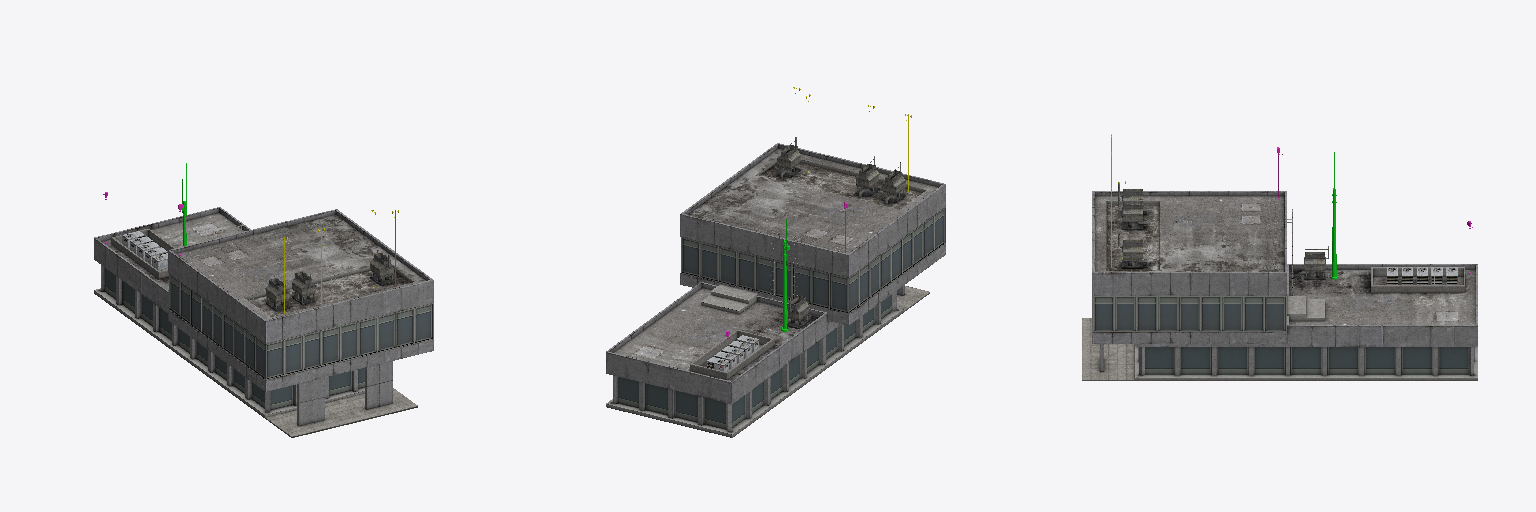
The picture shows the model from 3 angles: view 1: azimuth 30°, elevation 25°; view 2: azimuth 150°, elevation 25°; view 3: azimuth 270°, elevation 25°; orthographic projection.
Visible parts, largest first — view 1: low_01, air_shaft, air_shaft1, air_shaft2; view 2: low_01, air_shaft, air_shaft2, air_shaft1, air_shaft3; view 3: low_01, air_shaft3, air_shaft1, air_shaft.
Part boxes in pixels (x1,y1,x2,y2): low_01: (94, 207, 433, 437); air_shaft: (370, 250, 394, 285); air_shaft1: (291, 271, 315, 304); air_shaft2: (265, 276, 289, 311); low_01: (606, 143, 945, 437); air_shaft: (777, 137, 801, 178); air_shaft2: (881, 162, 905, 203); air_shaft1: (855, 156, 879, 197); air_shaft3: (787, 293, 809, 328); low_01: (1082, 191, 1477, 380); air_shaft3: (1298, 246, 1328, 279); air_shaft1: (1118, 196, 1148, 229); air_shaft: (1118, 234, 1148, 267).
Size of the model in its own units: 65.97 by 70.5 by 134.
6 materials, 3 textured.